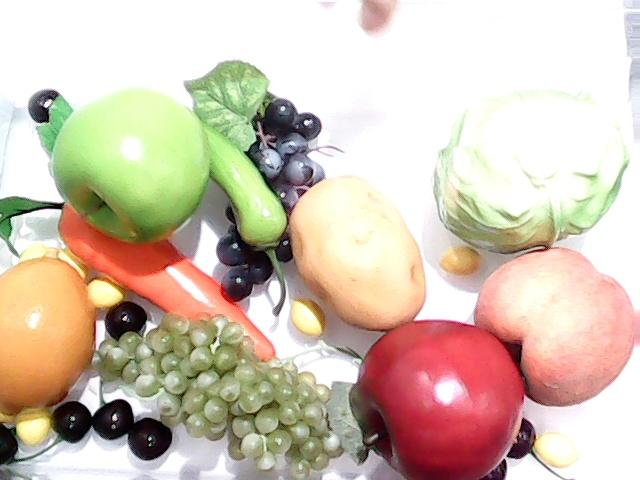apple: (344, 314, 524, 476), (46, 90, 210, 238)
cabbage: (428, 72, 636, 253)
carrot: (1, 92, 280, 360)
grape: (88, 311, 360, 480), (212, 91, 332, 305)
lemon: (0, 244, 106, 424)
peach: (468, 246, 640, 408)
pepper: (96, 90, 312, 258)
potato: (290, 176, 428, 332)
